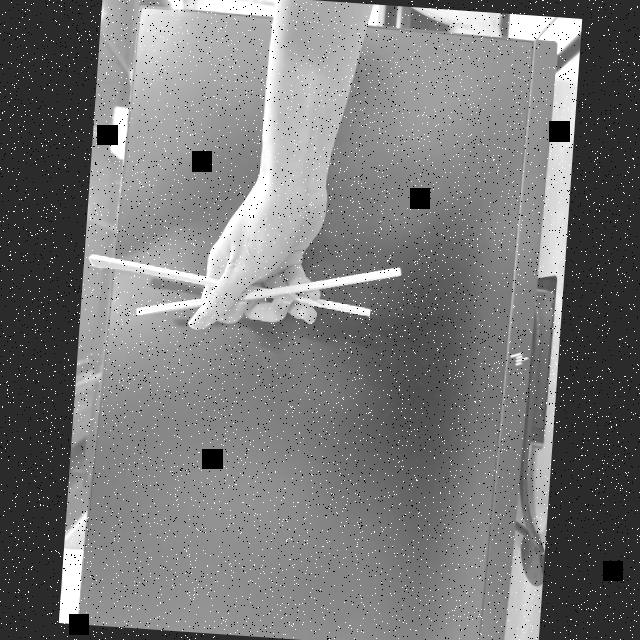stick: (116, 247, 399, 324)
